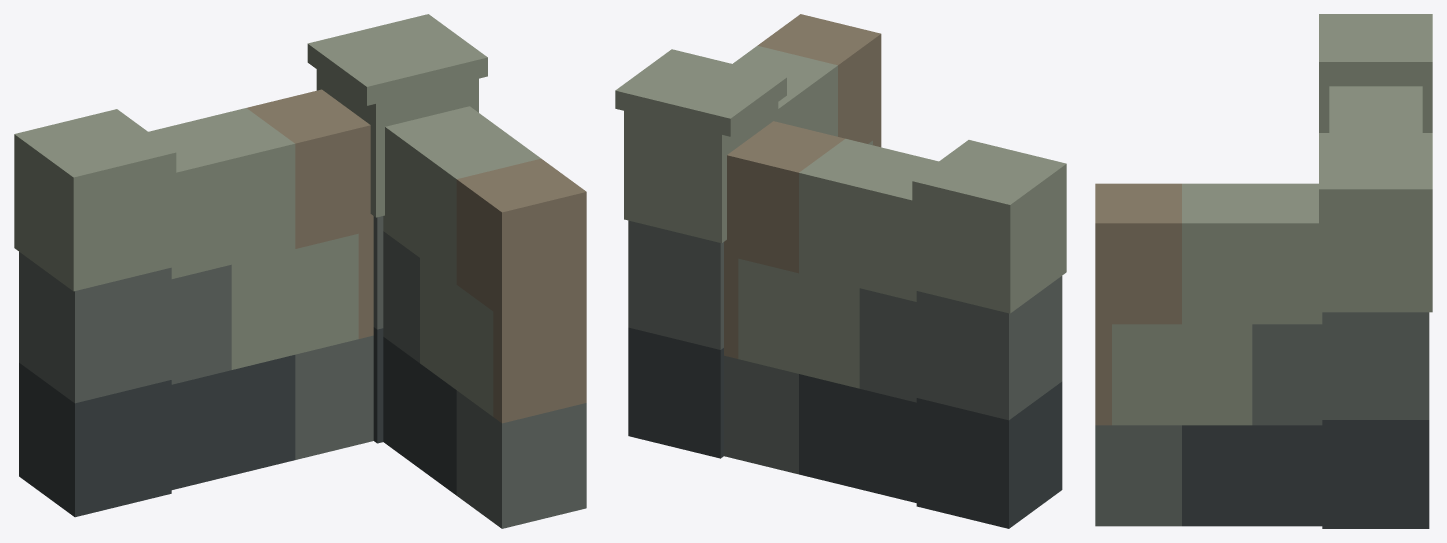
Rendered from TW_STONE_CORNER_R90_A_LOD0.glb.
3 renders of one model, left to right at view 1: azimuth 30°, elevation 25°; view 2: azimuth 150°, elevation 25°; view 3: azimuth 270°, elevation 25°, orthographic. The views are drawn at different scales.
Visible parts, largest first — view 1: TW_STONE_CORNER_R90_A_LOD0; view 2: TW_STONE_CORNER_R90_A_LOD0; view 3: TW_STONE_CORNER_R90_A_LOD0.
Part boxes in pixels (box(x1,y1,x2,y2)): TW_STONE_CORNER_R90_A_LOD0: box(14, 14, 586, 528); TW_STONE_CORNER_R90_A_LOD0: box(615, 14, 1066, 528); TW_STONE_CORNER_R90_A_LOD0: box(1095, 14, 1432, 528).
Bounding box in the file's own units: 1.37 × 1.14 × 1.01.
Materials: 1 (1 with a texture image).
